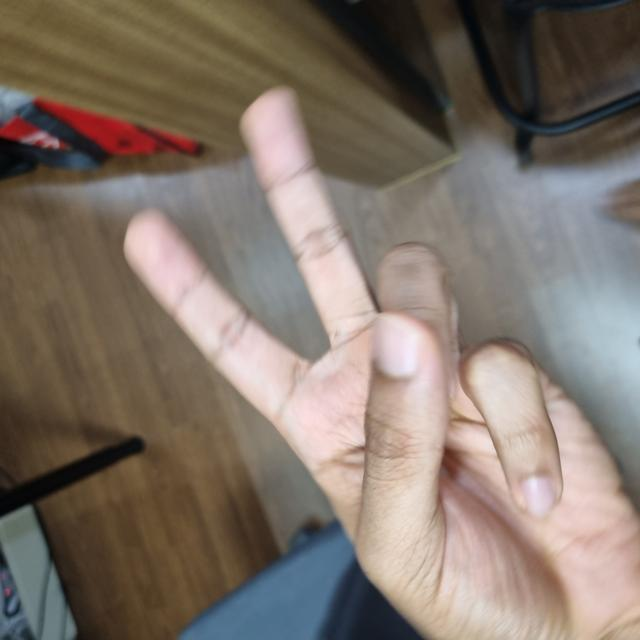Scissors: (2, 124, 541, 639)
